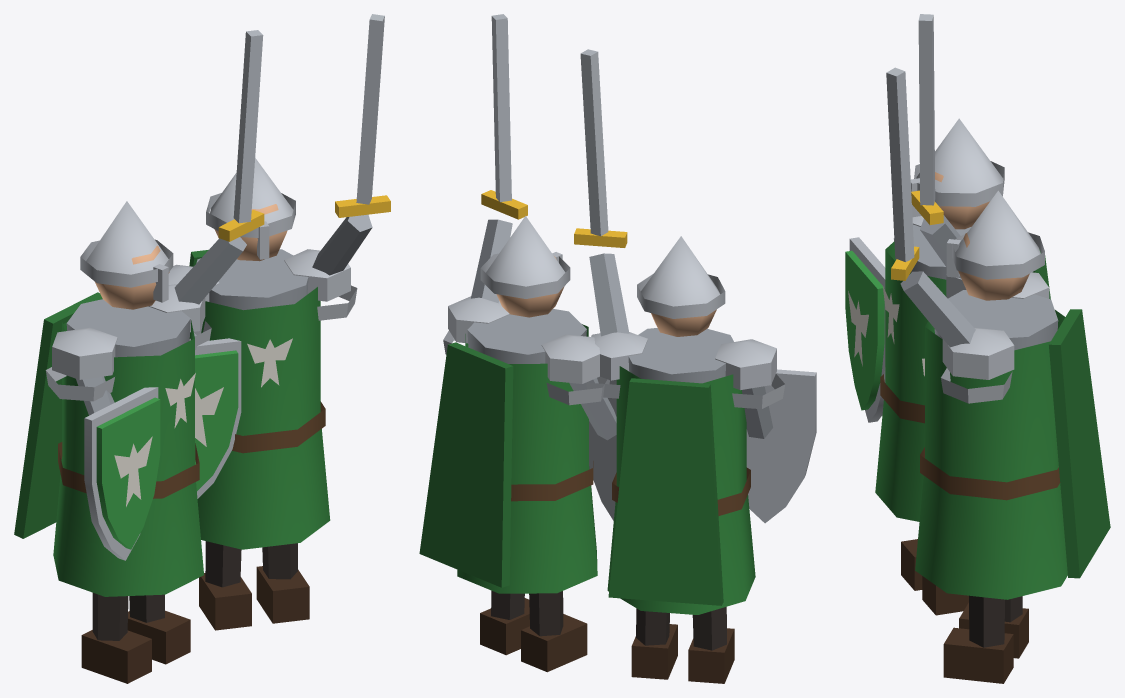
The model's file is sentry_dl3_green.glb.
3 views of the same model, side by side, from view 1: azimuth 30°, elevation 25°; view 2: azimuth 150°, elevation 25°; view 3: azimuth 270°, elevation 25° (orthographic). The views are drawn at different scales.
Visible parts, largest first — view 1: sentry_dl3_green; view 2: sentry_dl3_green; view 3: sentry_dl3_green.
Boxes of the visible parts, left/top/right/bottom form: sentry_dl3_green: left=14, top=14, right=390, bottom=683; sentry_dl3_green: left=419, top=14, right=816, bottom=683; sentry_dl3_green: left=845, top=14, right=1110, bottom=683.
Size of the model in its own units: 0.2982 by 0.5323 by 0.2037.
1 material, 1 textured.
